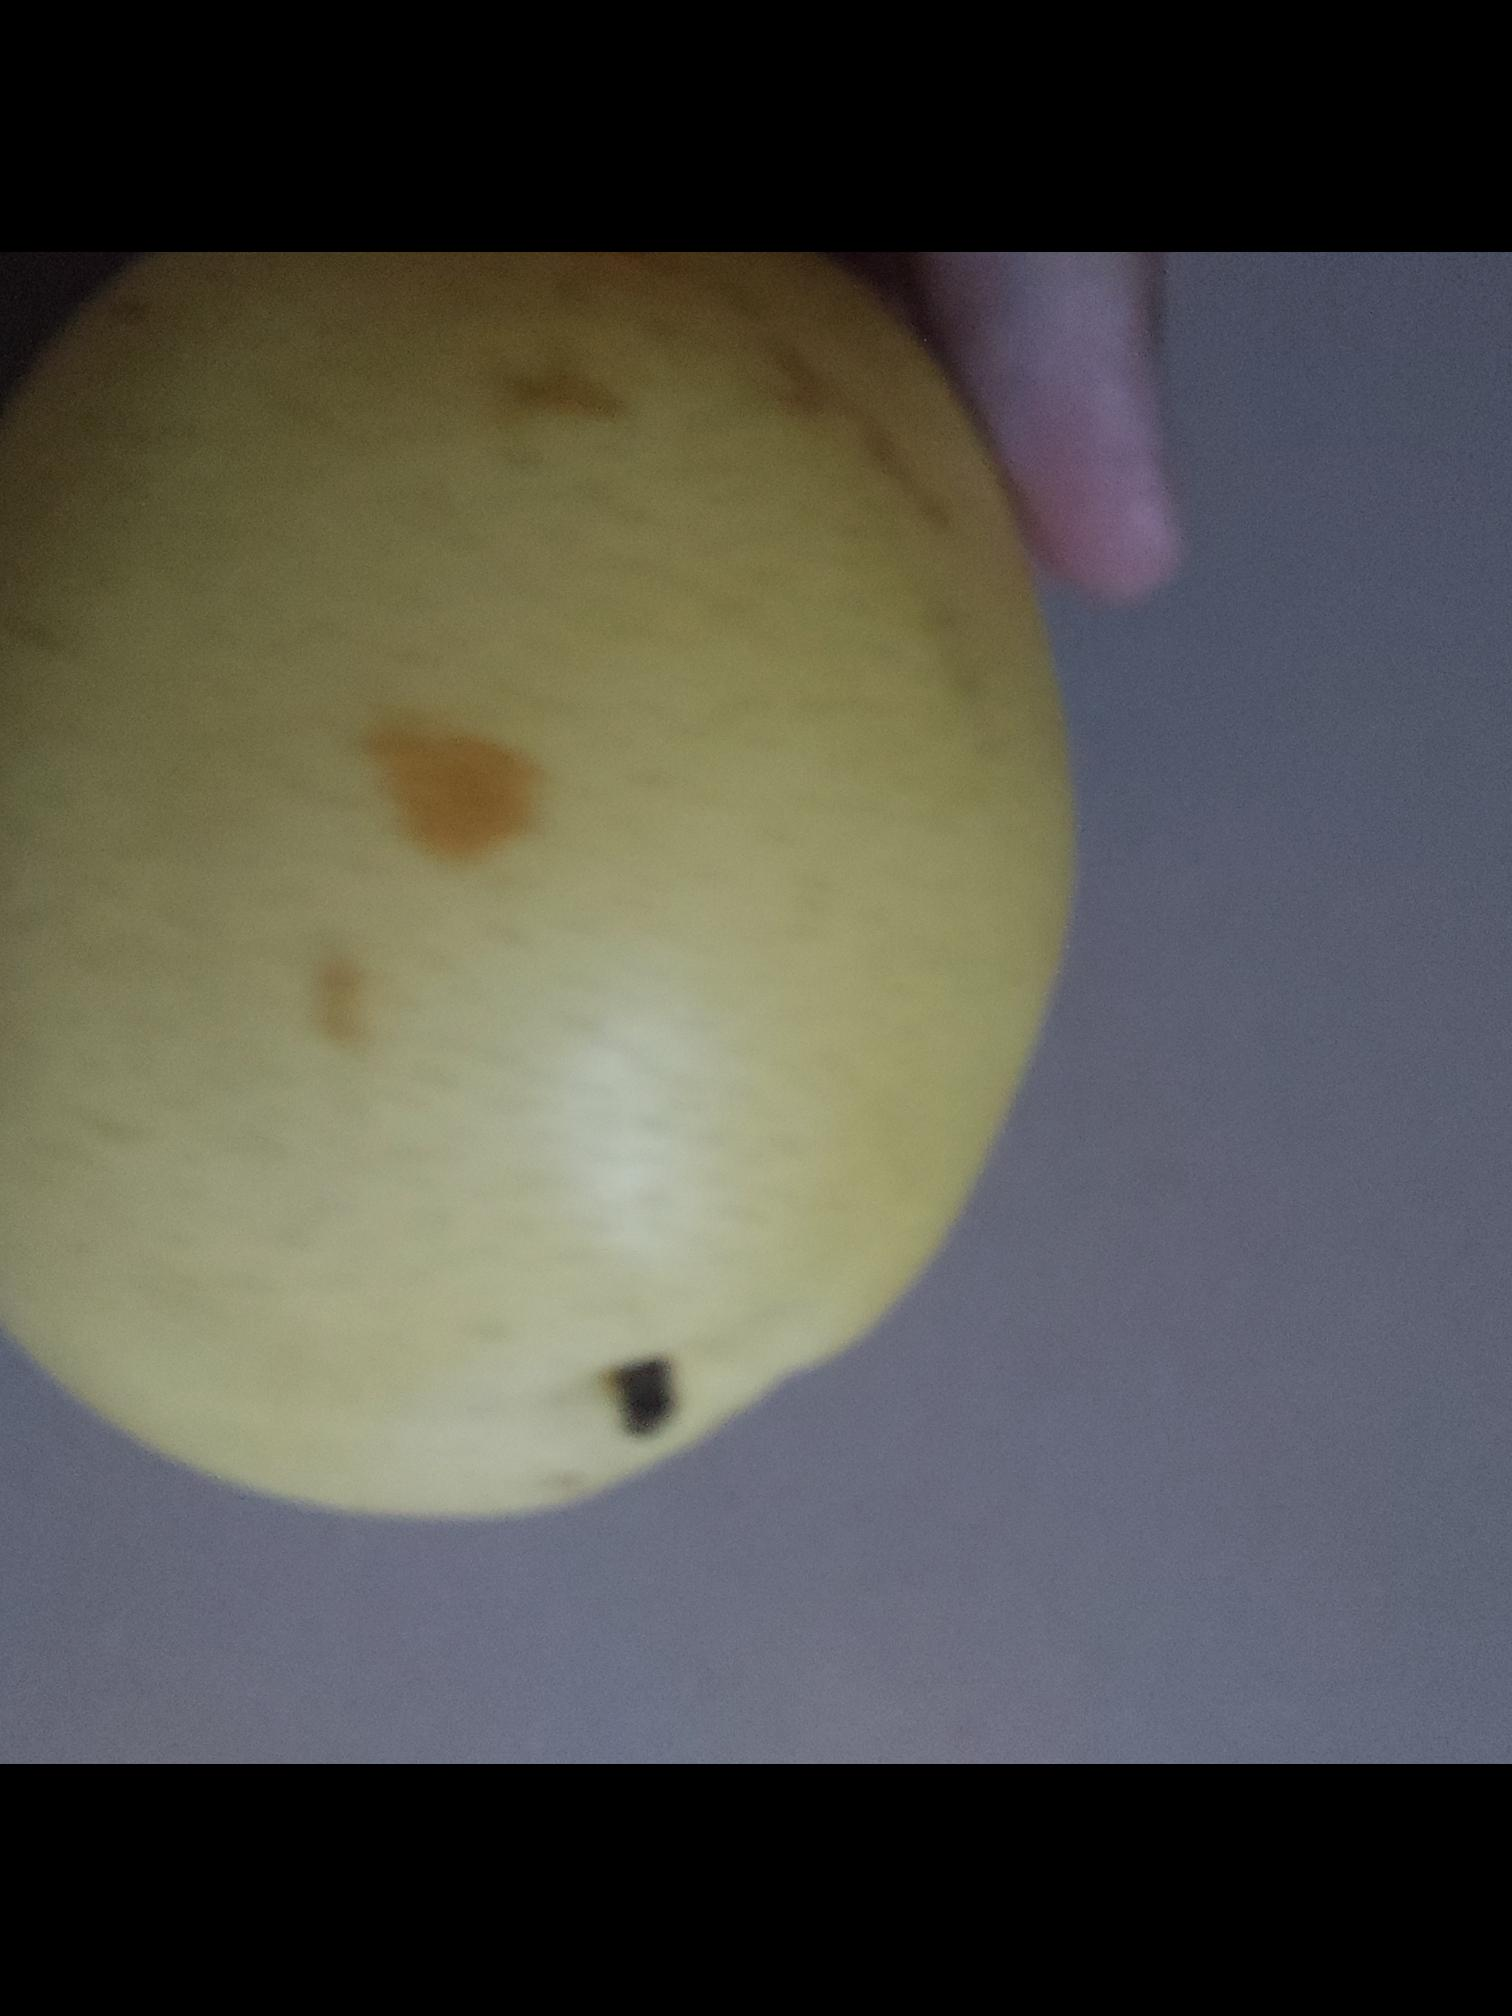Good Pear: (0, 252, 1091, 1568)
